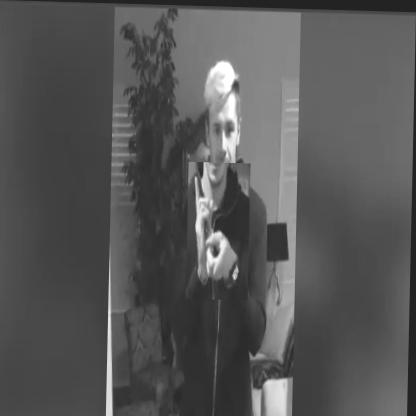NiceToMeetYou: (187, 160, 251, 299)
